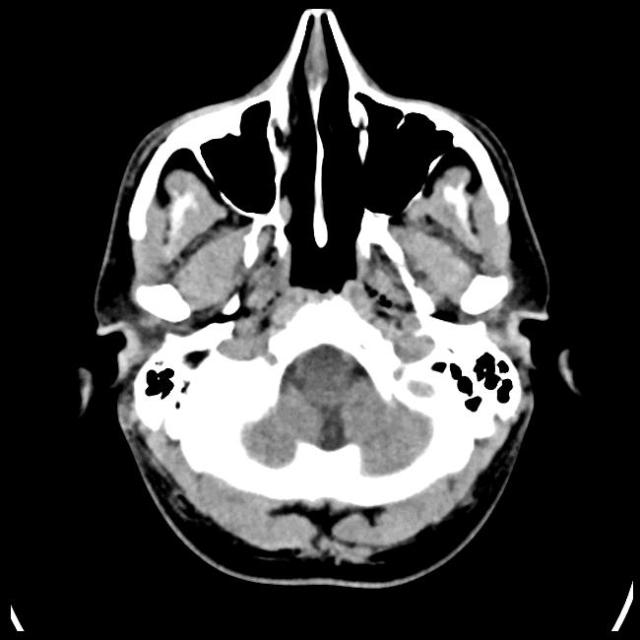lesion: (87, 9, 555, 587)
